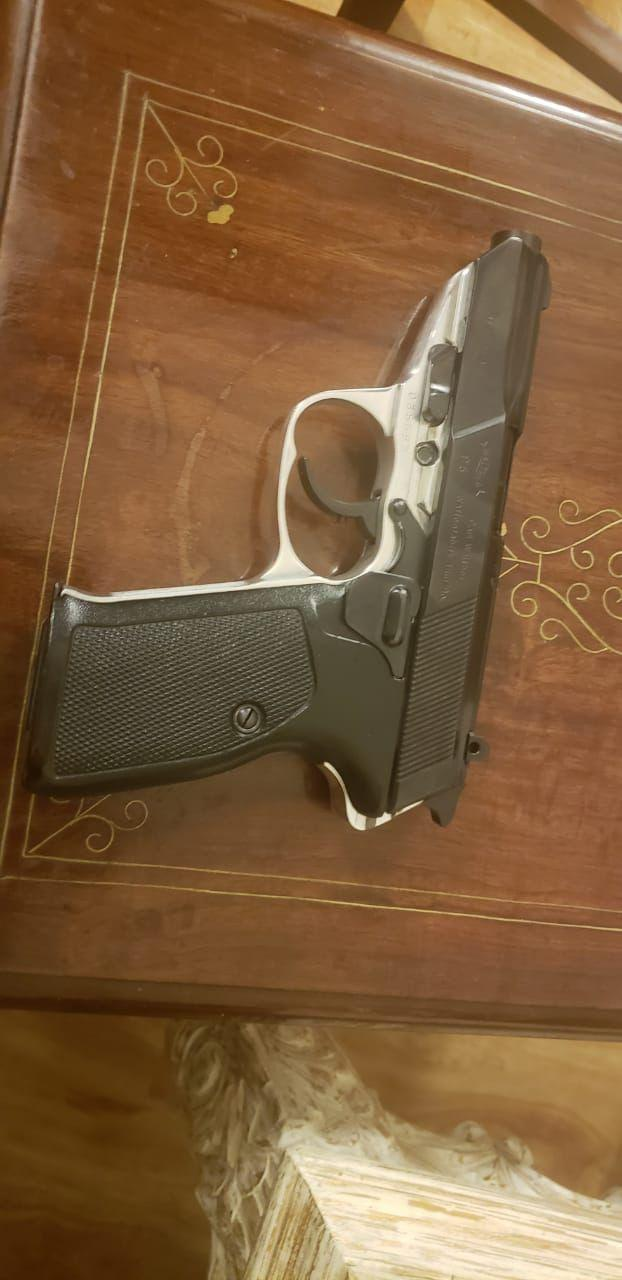weapon: (22, 225, 561, 834)
